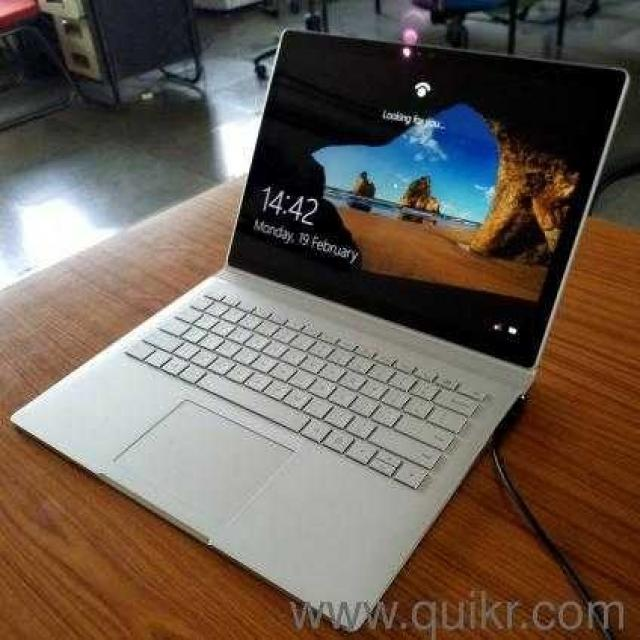laptop: (78, 1, 610, 618)
